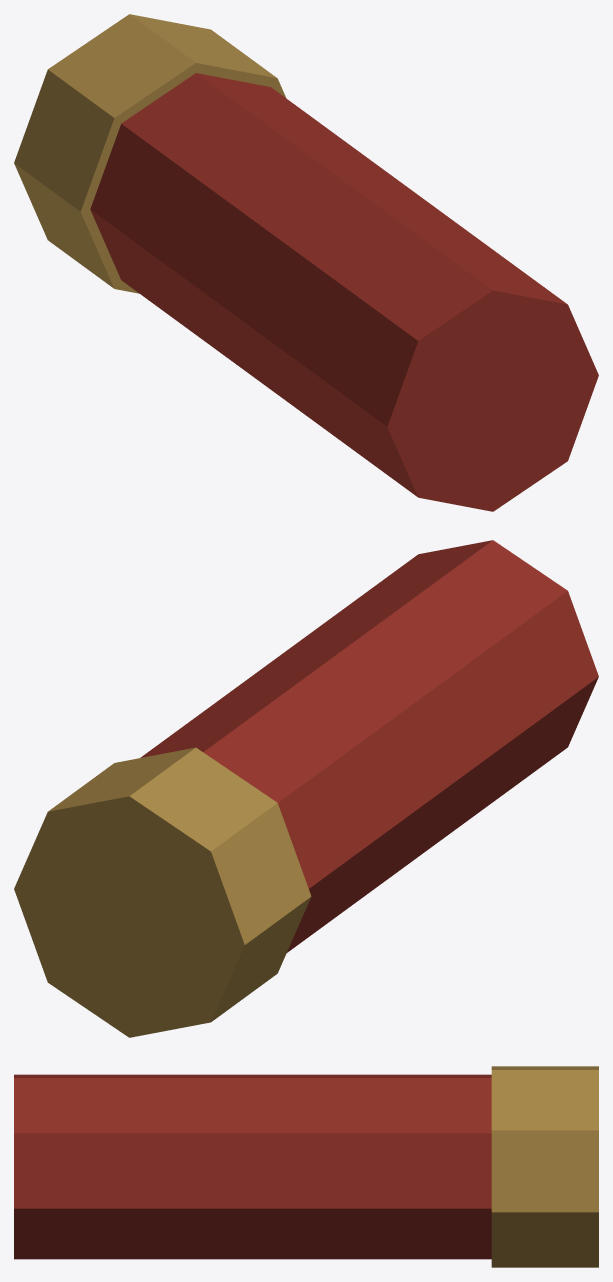
The model's file is shell_12g.glb.
3 views of the same model, one above another, from view 1: azimuth 30°, elevation 25°; view 2: azimuth 150°, elevation 25°; view 3: azimuth 270°, elevation 25° (orthographic). The views are drawn at different scales.
Parts seen in each view (by area): view 1: shell_12g; view 2: shell_12g; view 3: shell_12g.
Boxes of the visible parts, <box> form: shell_12g: <box>14,14,598,511</box>; shell_12g: <box>14,540,598,1037</box>; shell_12g: <box>14,1066,598,1267</box>.
Bounding box in the file's own units: 0.0312 × 0.0312 × 0.0851.
